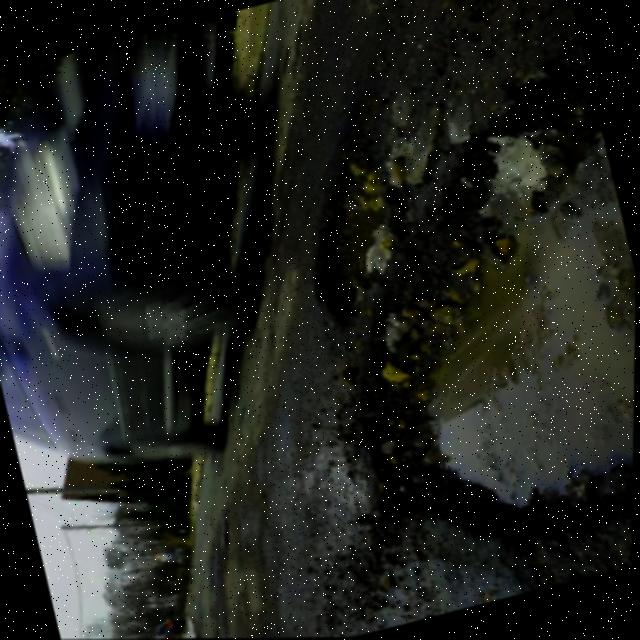Pothole: (227, 0, 640, 633), (253, 39, 520, 369)
